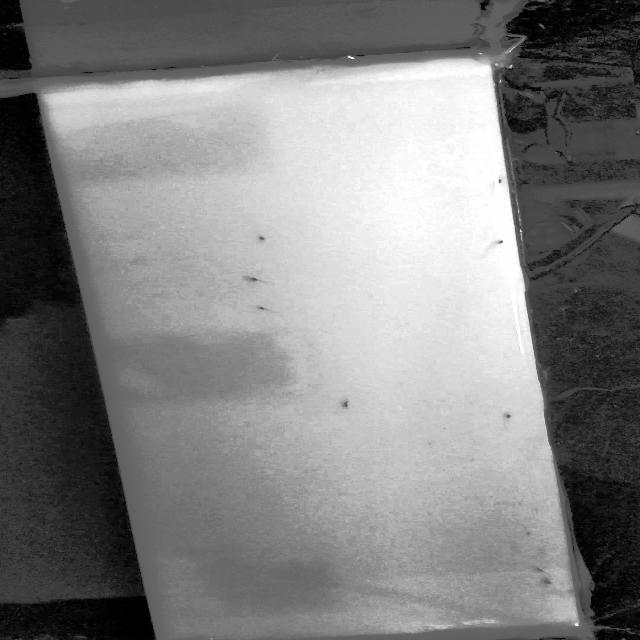shrimp: (473, 237, 505, 254), (482, 173, 500, 190), (242, 274, 269, 284), (254, 306, 274, 314), (340, 401, 356, 409), (534, 566, 550, 573), (538, 579, 556, 585), (254, 236, 270, 242), (500, 413, 515, 419)
